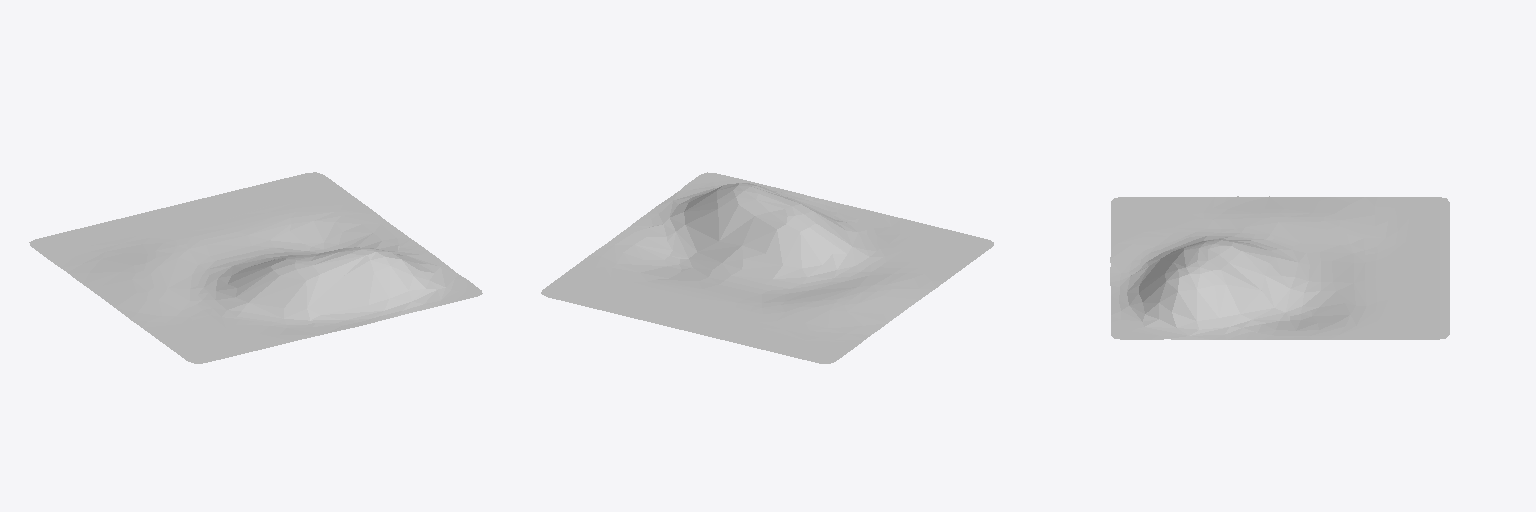
The model's file is Ground12.obj.
3 views of the same model, side by side, from view 1: azimuth 30°, elevation 25°; view 2: azimuth 150°, elevation 25°; view 3: azimuth 270°, elevation 25° (orthographic).
Parts seen in each view (by area): view 1: Plane; view 2: Plane; view 3: Plane.
Part boxes in pixels (bbox=[...]): Plane: bbox=[29, 172, 482, 363]; Plane: bbox=[541, 172, 993, 363]; Plane: bbox=[1110, 196, 1449, 339].
Bounding box in the file's own units: 401 × 52.16 × 401.